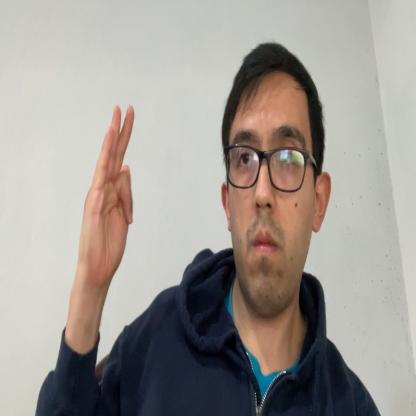F: (80, 102, 134, 286)
